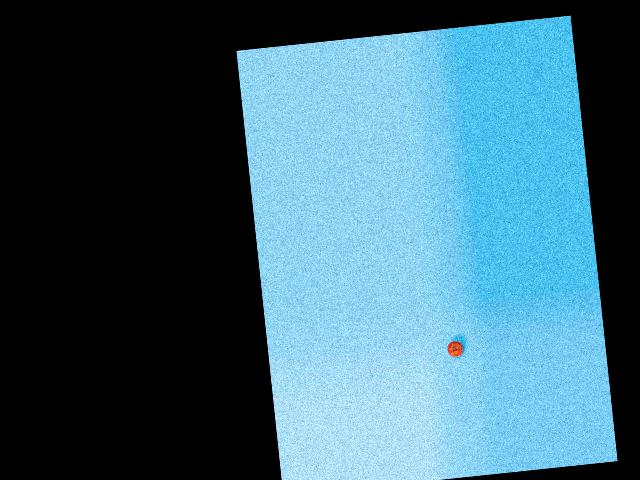tomato: (446, 339, 463, 357)
